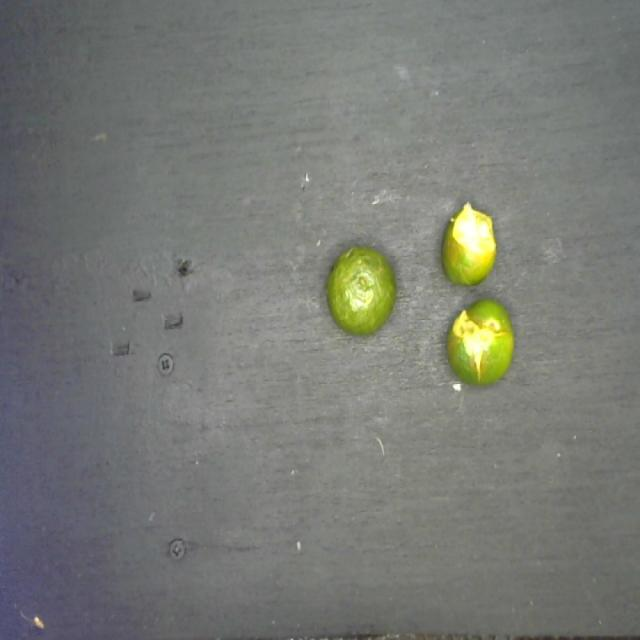biodegradable: (325, 201, 515, 388)
